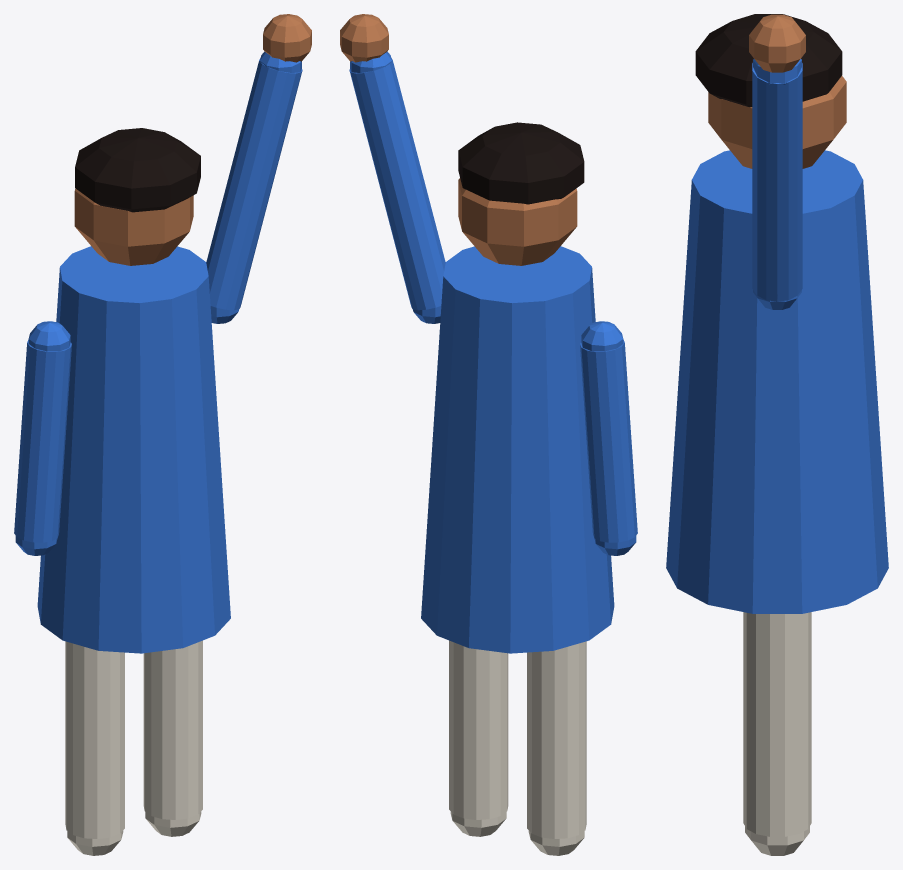
The model's file is rick-fare-7G3fUFvU.glb.
3 renders of one model, left to right at view 1: azimuth 30°, elevation 25°; view 2: azimuth 150°, elevation 25°; view 3: azimuth 270°, elevation 25°, orthographic. The views are drawn at different scales.
Visible parts, largest first — view 1: Cone, Cylinder, Cylinder.002, Cylinder.001, Cylinder.003, Sphere.001, Sphere, Sphere.008, Sphere.009, Sphere.003, Sphere.005; view 2: Cone, Cylinder, Cylinder.002, Cylinder.001, Cylinder.003, Sphere.001, Sphere, Sphere.008, Sphere.009, Sphere.003, Sphere.005; view 3: Cone, Cylinder.001, Cylinder.002, Sphere.001, Sphere, Sphere.008, Sphere.005, Sphere.007.
Part boxes in pixels (left/top/right/bottom): Cone: left=37, top=246, right=230, bottom=653; Cylinder: left=65, top=641, right=124, bottom=838; Cylinder.002: left=206, top=58, right=302, bottom=310; Cylinder.001: left=143, top=640, right=202, bottom=819; Cylinder.003: left=14, top=339, right=71, bottom=542; Sphere.001: left=75, top=128, right=200, bottom=212; Sphere: left=74, top=188, right=193, bottom=265; Sphere.008: left=263, top=14, right=311, bottom=62; Sphere.009: left=28, top=321, right=70, bottom=351; Sphere.003: left=67, top=830, right=123, bottom=855; Sphere.005: left=145, top=811, right=201, bottom=836; Cone: left=421, top=246, right=614, bottom=653; Cylinder: left=527, top=641, right=586, bottom=838; Cylinder.002: left=349, top=58, right=445, bottom=310; Cylinder.001: left=449, top=640, right=508, bottom=819; Cylinder.003: left=580, top=339, right=637, bottom=542; Sphere.001: left=458, top=122, right=584, bottom=204; Sphere: left=458, top=178, right=577, bottom=265; Sphere.008: left=340, top=14, right=388, bottom=62; Sphere.009: left=581, top=321, right=623, bottom=351; Sphere.003: left=528, top=830, right=584, bottom=855; Sphere.005: left=450, top=811, right=506, bottom=836; Cone: left=666, top=150, right=888, bottom=613; Cylinder.001: left=743, top=612, right=811, bottom=836; Cylinder.002: left=752, top=63, right=802, bottom=301; Sphere.001: left=695, top=14, right=842, bottom=107; Sphere: left=708, top=76, right=846, bottom=168; Sphere.008: left=749, top=14, right=805, bottom=72; Sphere.005: left=745, top=826, right=809, bottom=855; Sphere.007: left=753, top=59, right=801, bottom=84.
Size of the model in its own units: 0.8932 by 2.32 by 0.52.
